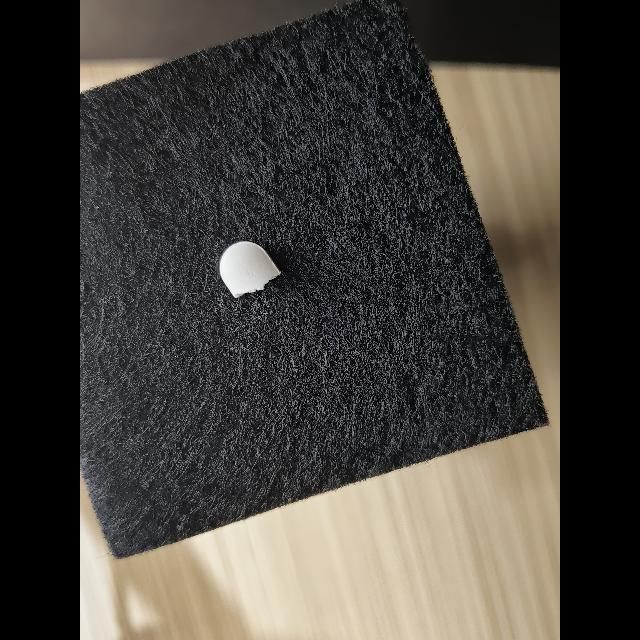Chipped Pill: (220, 241, 281, 298)
